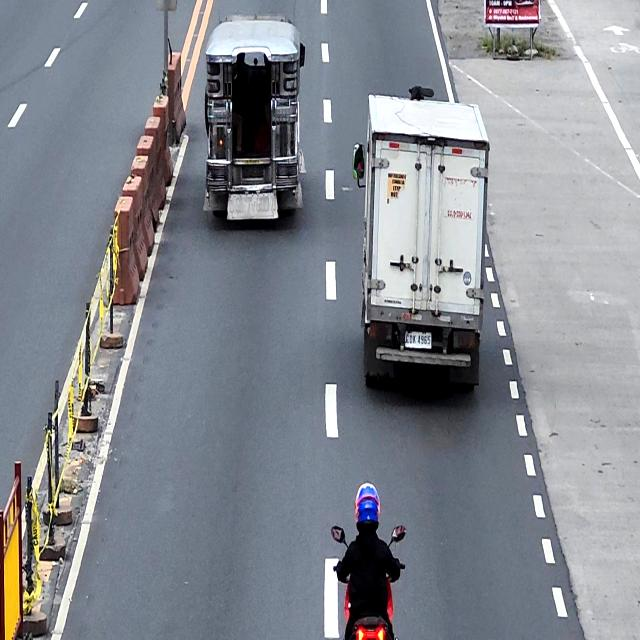Jeep: (204, 15, 305, 224)
License-Plate: (404, 331, 432, 349), (241, 162, 264, 179)
Motorcycle: (332, 523, 407, 640)
Truck: (356, 93, 491, 399)
